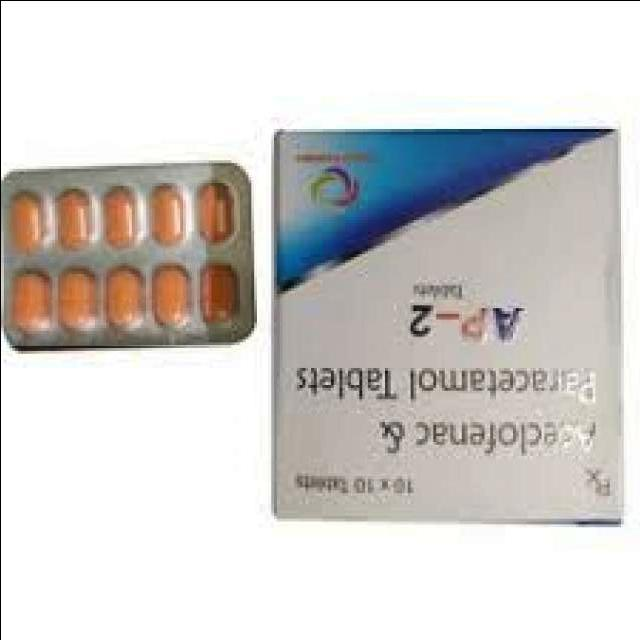authentic: (261, 118, 637, 538), (0, 156, 257, 345)
